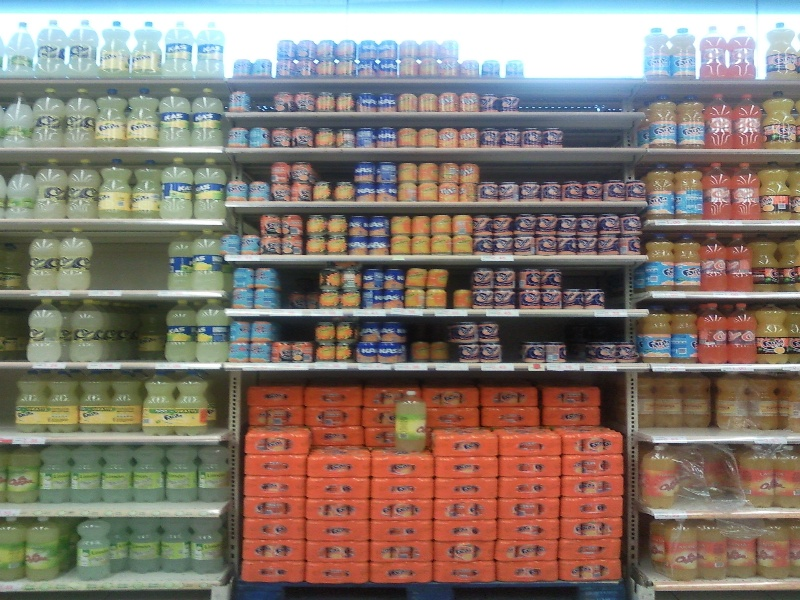lemonade: (24, 297, 63, 363), (193, 226, 227, 299), (58, 227, 96, 292), (25, 226, 61, 293), (196, 298, 231, 364), (96, 157, 132, 221), (130, 158, 166, 222), (696, 301, 730, 368), (726, 233, 761, 297), (730, 156, 764, 221), (163, 300, 198, 363), (97, 157, 132, 220), (640, 235, 676, 295), (672, 161, 708, 221), (128, 87, 162, 150), (727, 303, 761, 365), (67, 159, 101, 221), (160, 156, 193, 219), (192, 89, 226, 150), (699, 228, 728, 298), (72, 300, 104, 363), (195, 156, 225, 221), (669, 306, 704, 361), (95, 85, 126, 146), (161, 87, 191, 150), (648, 93, 680, 152), (701, 157, 729, 222), (673, 234, 703, 293), (643, 308, 674, 364), (676, 94, 707, 150), (736, 97, 767, 153), (645, 162, 673, 221)
